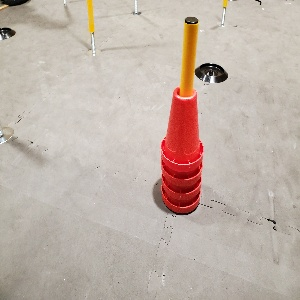Red_4: (160, 85, 202, 214)
